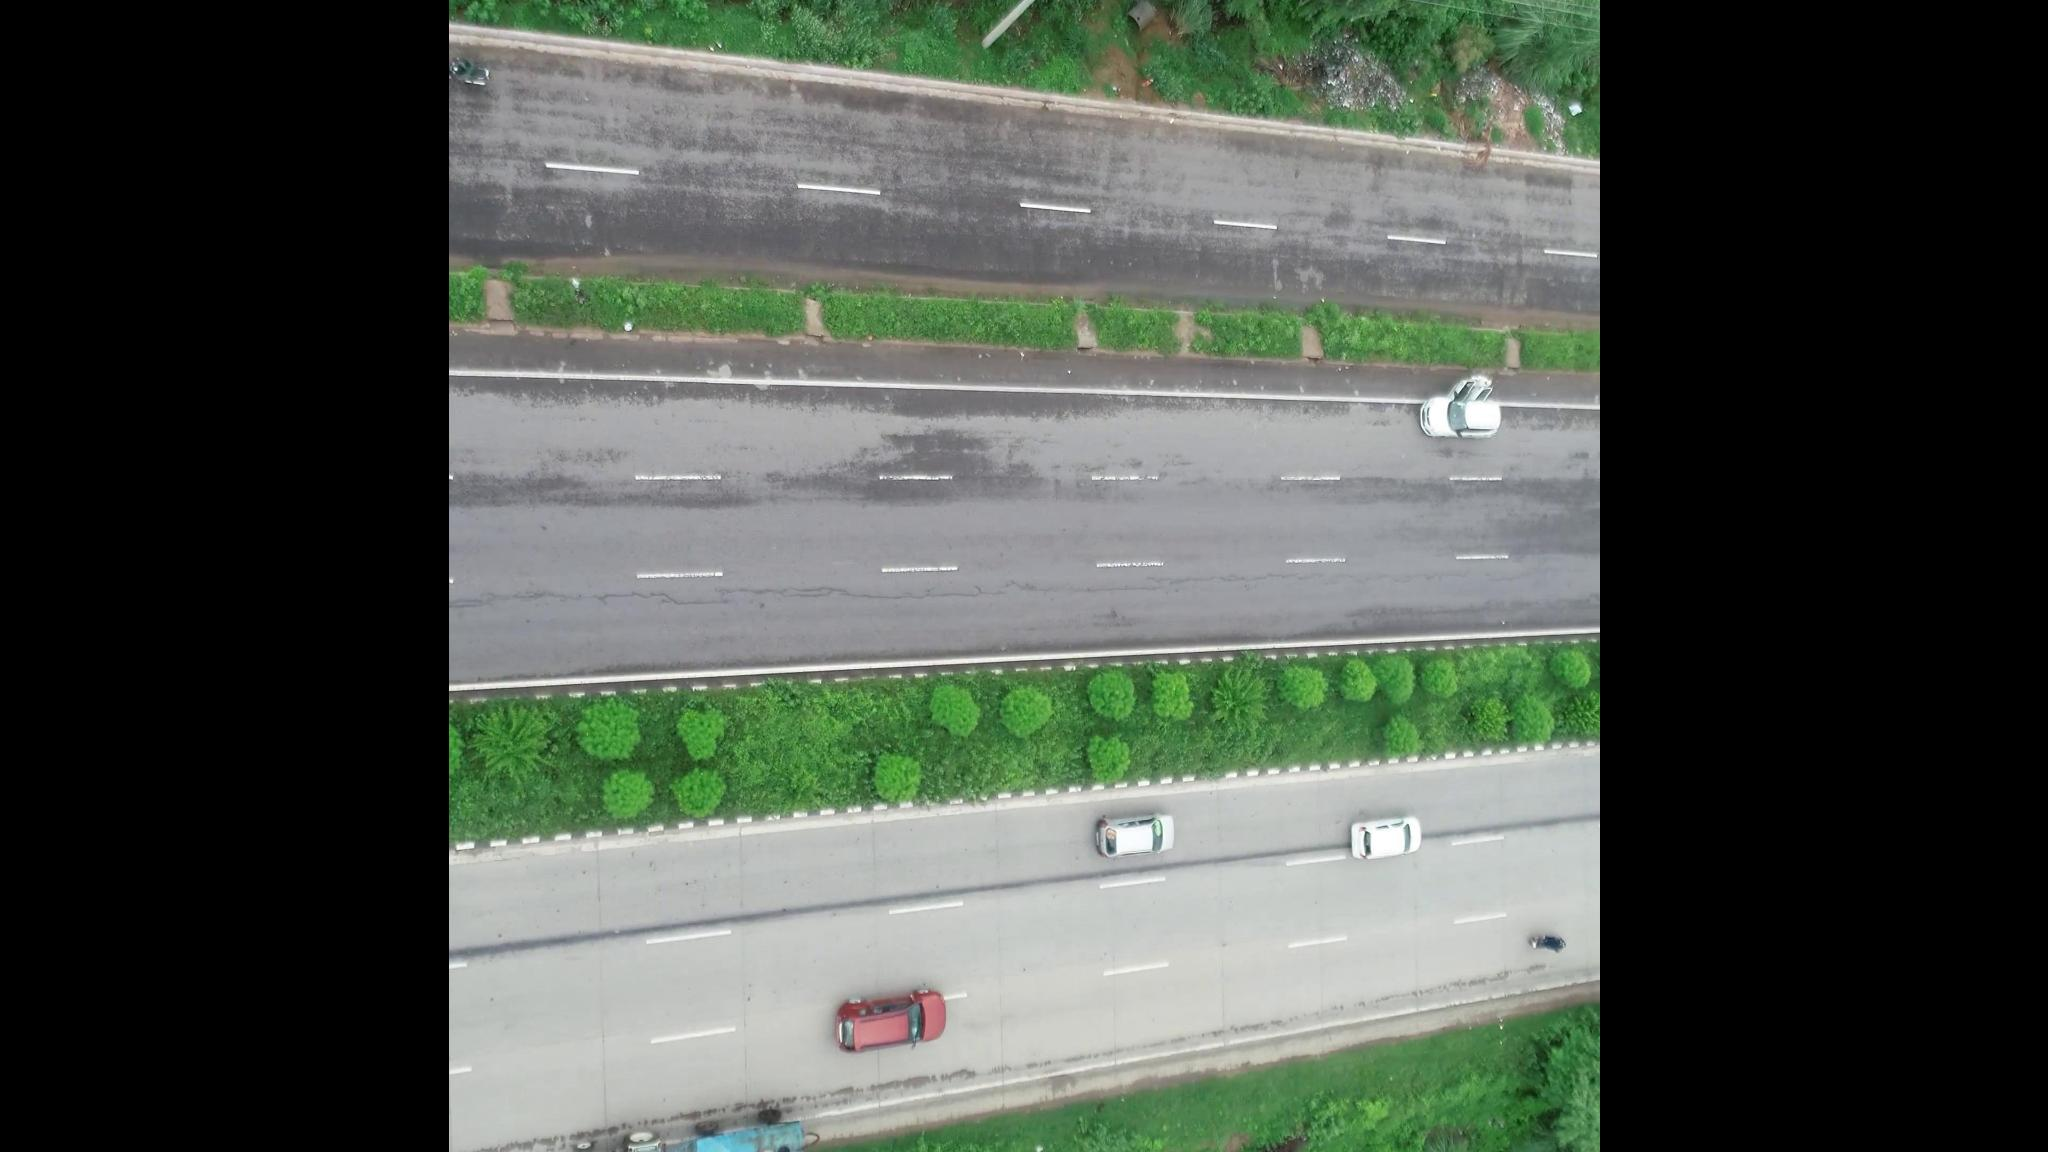Cracks: (459, 575, 1061, 626), (1063, 554, 1588, 608)
